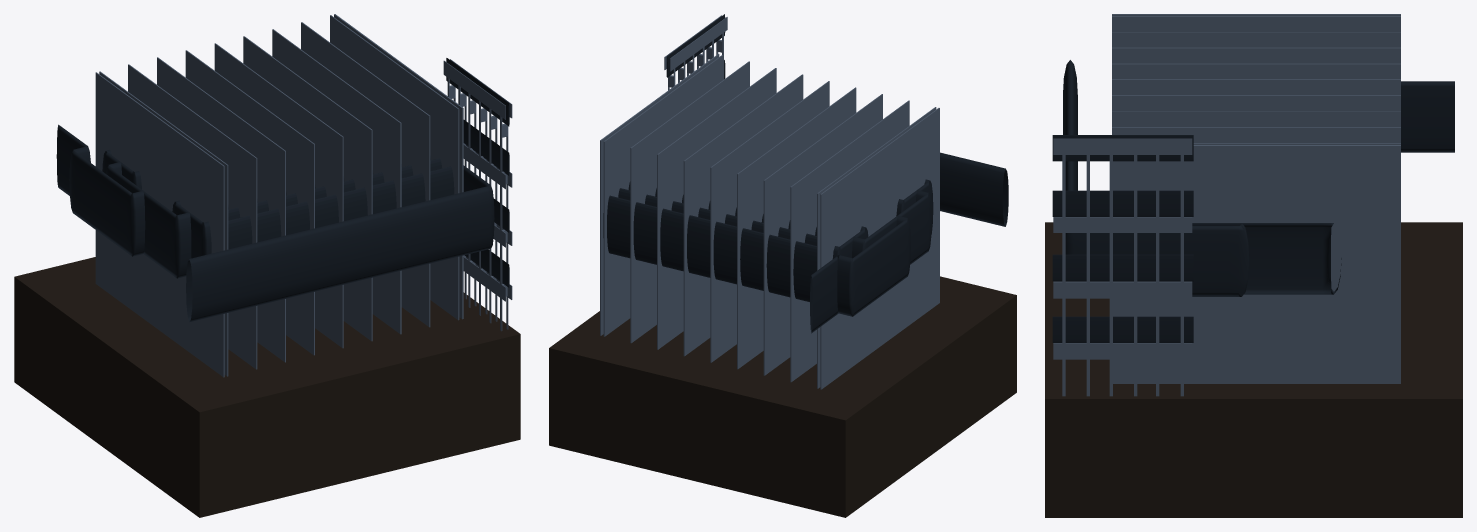
File: Slug Catcher_cube.fbx
The picture shows the model from 3 angles, left to right: view 1: azimuth 30°, elevation 25°; view 2: azimuth 150°, elevation 25°; view 3: azimuth 270°, elevation 25°; orthographic projection. The views are drawn at different scales.
Visible parts, largest first — view 1: SlugCatcher_cube; view 2: SlugCatcher_cube; view 3: SlugCatcher_cube.
Part boxes in pixels (x1,y1,x2,y2): SlugCatcher_cube: (14,14,520,517); SlugCatcher_cube: (549,14,1016,517); SlugCatcher_cube: (1045,14,1462,517).
Bounding box in the file's own units: 100 × 100 × 100.
